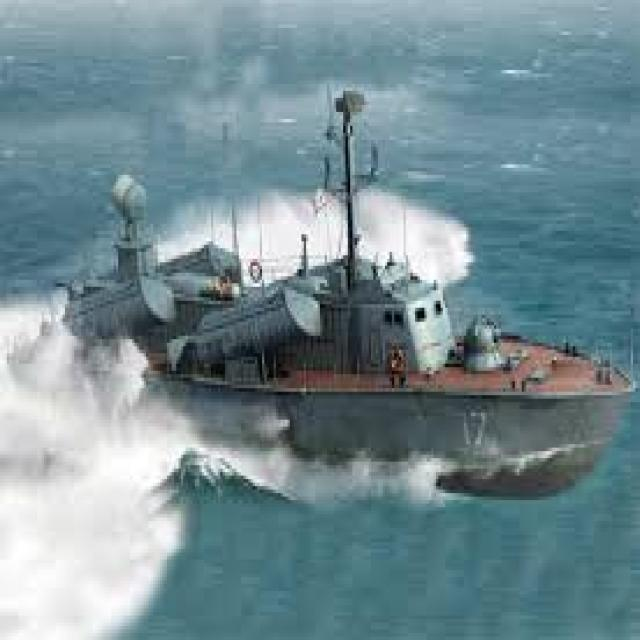navalvessels: (26, 90, 628, 462)
